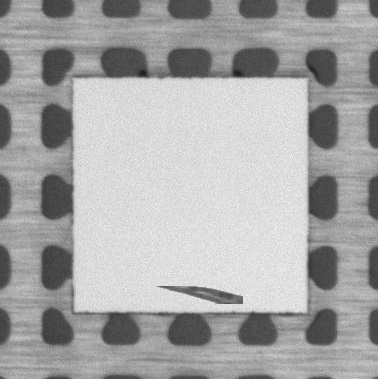DIE_INK: (157, 286, 243, 304)
